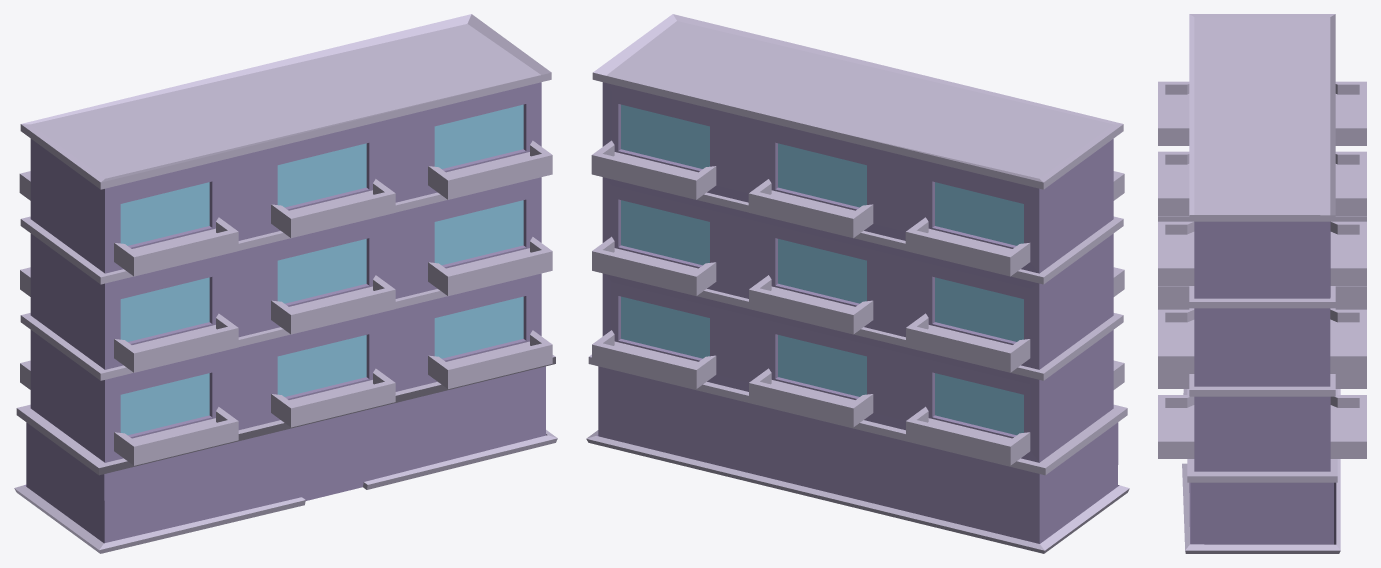
Rendered from hotel.fbx.
The picture shows the model from 3 angles, left to right: view 1: azimuth 30°, elevation 25°; view 2: azimuth 150°, elevation 25°; view 3: azimuth 270°, elevation 25°; orthographic projection. The views are drawn at different scales.
Visible parts, largest first — view 1: Hotel; view 2: Hotel; view 3: Hotel.
Boxes of the visible parts, bbox=[...] form: Hotel: bbox=[14, 14, 557, 553]; Hotel: bbox=[586, 14, 1129, 553]; Hotel: bbox=[1158, 14, 1366, 553].
Size of the model in its own units: 3357 by 2583 by 1448.
